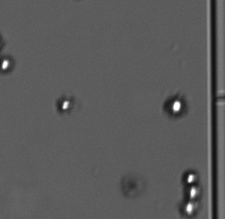Dead Cell: (121, 173, 146, 196)
Living Cell: (165, 92, 187, 119), (57, 94, 75, 115), (178, 198, 199, 216), (182, 169, 201, 186), (184, 184, 203, 200), (1, 54, 14, 75)
